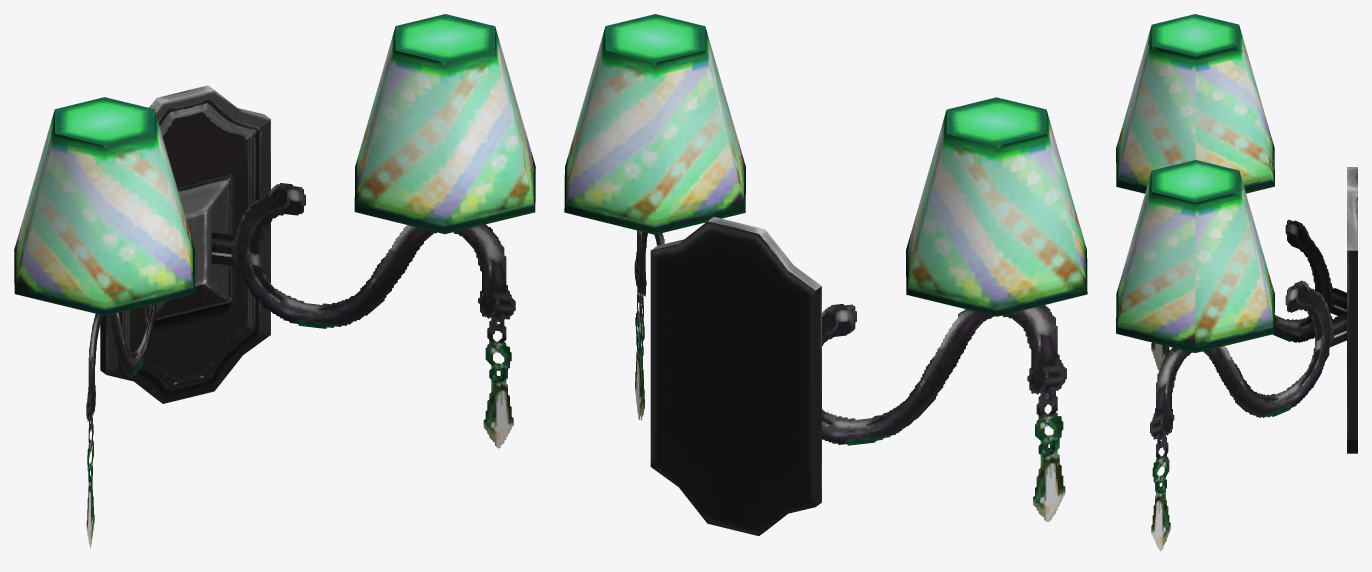
File: furni_0200601_01.FBX
The picture shows the model from 3 angles, left to right: view 1: azimuth 30°, elevation 25°; view 2: azimuth 150°, elevation 25°; view 3: azimuth 270°, elevation 25°; orthographic projection. The views are drawn at different scales.
Visible parts, largest first — view 1: furni_0200601_01; view 2: furni_0200601_01; view 3: furni_0200601_01.
Part boxes in pixels (x1,y1,x2,y2): furni_0200601_01: (14,14,535,547); furni_0200601_01: (564,14,1087,535); furni_0200601_01: (1116,14,1357,551).
Size of the model in its own units: 72.8 by 54.18 by 33.34.
Materials: 1 (1 with a texture image).
